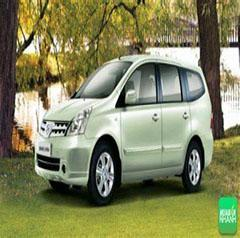car: (23, 44, 224, 206)
